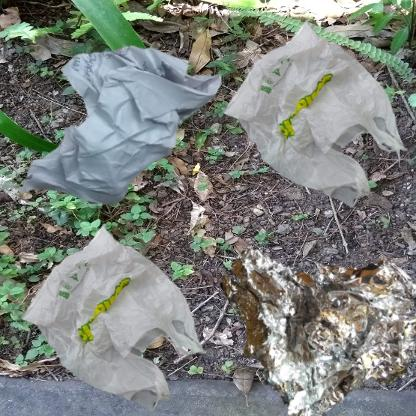aluminio: (213, 213, 416, 416)
bolsa: (213, 10, 416, 223), (10, 213, 215, 416)
papel: (10, 10, 252, 278)
